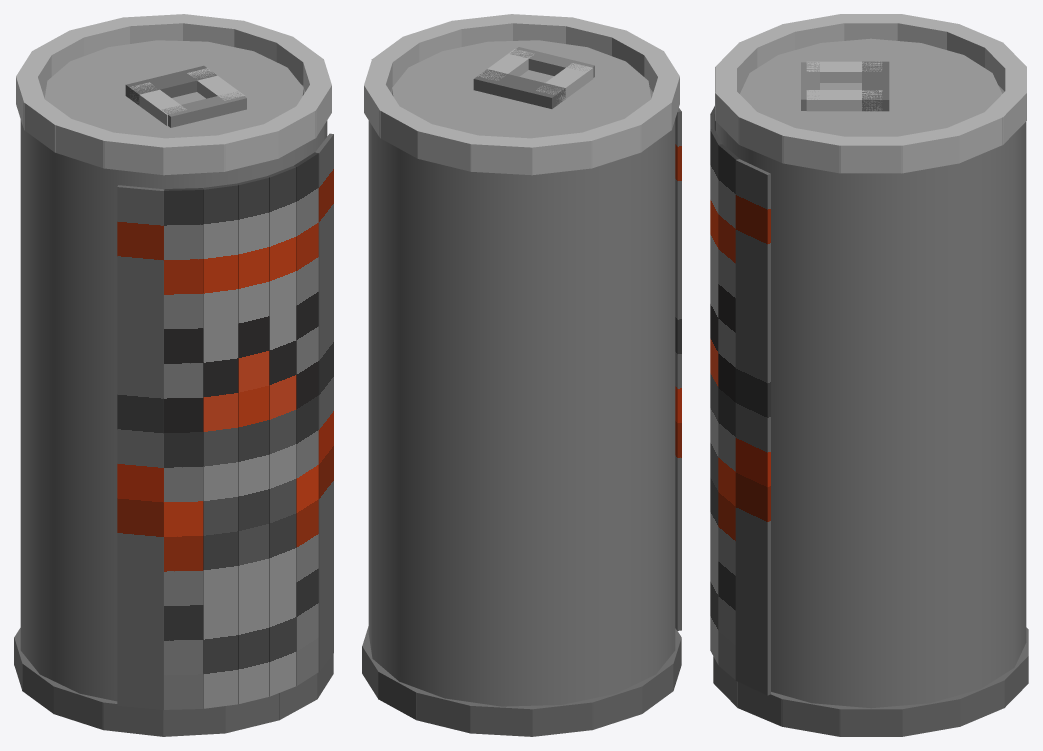
Rendered from CMU3DBobdaClassicCloud.glb.
3 views of the same model, side by side, from view 1: azimuth 30°, elevation 25°; view 2: azimuth 150°, elevation 25°; view 3: azimuth 270°, elevation 25° (orthographic).
Visible parts, largest first — view 1: closed aluminium can body, original printed label strip 1, original printed label strip 2, original printed label strip 3, original printed label strip 4, recessed aluminium lid, original printed label strip 5, original printed label strip 6, original printed label strip 7, raised upper rim 12, raised upper rim 11, raised upper rim 13 (+23 smaller); view 2: closed aluminium can body, recessed aluminium lid, original printed label strip 1, raised upper rim 06, raised upper rim 07, pull tab rear bridge, raised upper rim 05, raised upper rim 08, rolled bottom seam 06, rolled bottom seam 07, rolled bottom seam 05, raised upper rim 04 (+18 smaller); view 3: closed aluminium can body, original printed label strip 7, recessed aluminium lid, original printed label strip 6, original printed label strip 5, raised upper rim 01, raised upper rim 16, raised upper rim 02, rolled bottom seam 01, raised upper rim 15, rolled bottom seam 16, raised upper rim 03 (+20 smaller).
Boxes of the visible parts, <box> form: closed aluminium can body: <box>20,84,327,701</box>; original printed label strip 1: <box>117,185,164,709</box>; original printed label strip 2: <box>164,188,203,709</box>; original printed label strip 3: <box>203,183,238,708</box>; original printed label strip 4: <box>237,176,269,703</box>; recessed aluminium lid: <box>44,40,303,138</box>; original printed label strip 5: <box>267,166,296,696</box>; original printed label strip 6: <box>294,152,318,685</box>; original printed label strip 7: <box>315,133,333,671</box>; raised upper rim 12: <box>161,135,225,175</box>; raised upper rim 11: <box>103,132,168,174</box>; raised upper rim 13: <box>214,123,278,171</box>; closed aluminium can body: <box>368,84,675,706</box>; recessed aluminium lid: <box>392,40,651,138</box>; original printed label strip 1: <box>675,108,681,630</box>; raised upper rim 06: <box>470,135,535,175</box>; raised upper rim 07: <box>532,132,592,175</box>; pull tab rear bridge: <box>473,69,565,108</box>; raised upper rim 05: <box>417,124,481,171</box>; raised upper rim 08: <box>584,117,641,168</box>; rolled bottom seam 06: <box>470,703,533,736</box>; rolled bottom seam 07: <box>530,700,593,736</box>; rolled bottom seam 05: <box>416,689,474,733</box>; raised upper rim 04: <box>379,106,434,158</box>; closed aluminium can body: <box>716,85,1026,708</box>; original printed label strip 7: <box>735,159,770,695</box>; recessed aluminium lid: <box>740,38,1002,136</box>; original printed label strip 6: <box>718,144,739,679</box>; original printed label strip 5: <box>710,129,722,664</box>; raised upper rim 01: <box>839,136,902,173</box>; raised upper rim 16: <box>782,127,846,173</box>; raised upper rim 02: <box>894,127,959,173</box>; rolled bottom seam 01: <box>839,705,902,736</box>; raised upper rim 15: <box>738,111,797,163</box>; rolled bottom seam 16: <box>781,696,840,736</box>; raised upper rim 03: <box>944,110,1003,163</box>.
Size of what is drawn, in the model's own units: 0.2783 by 0.575 by 0.2812.
11 materials, 7 textured.
